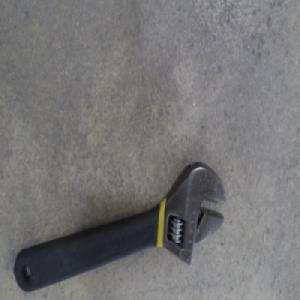AdjustableWrench: (13, 161, 228, 292)
